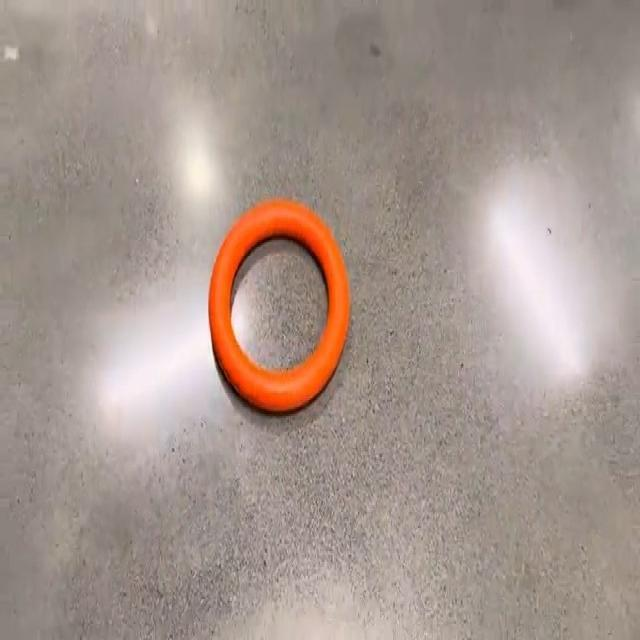note: (209, 202, 349, 411)
